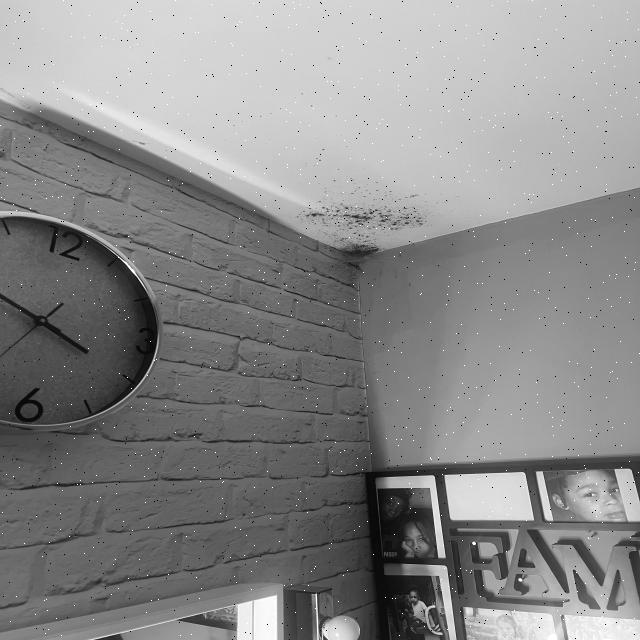stain marks: (264, 172, 458, 299), (212, 84, 367, 174), (301, 136, 357, 178), (123, 130, 173, 157)
